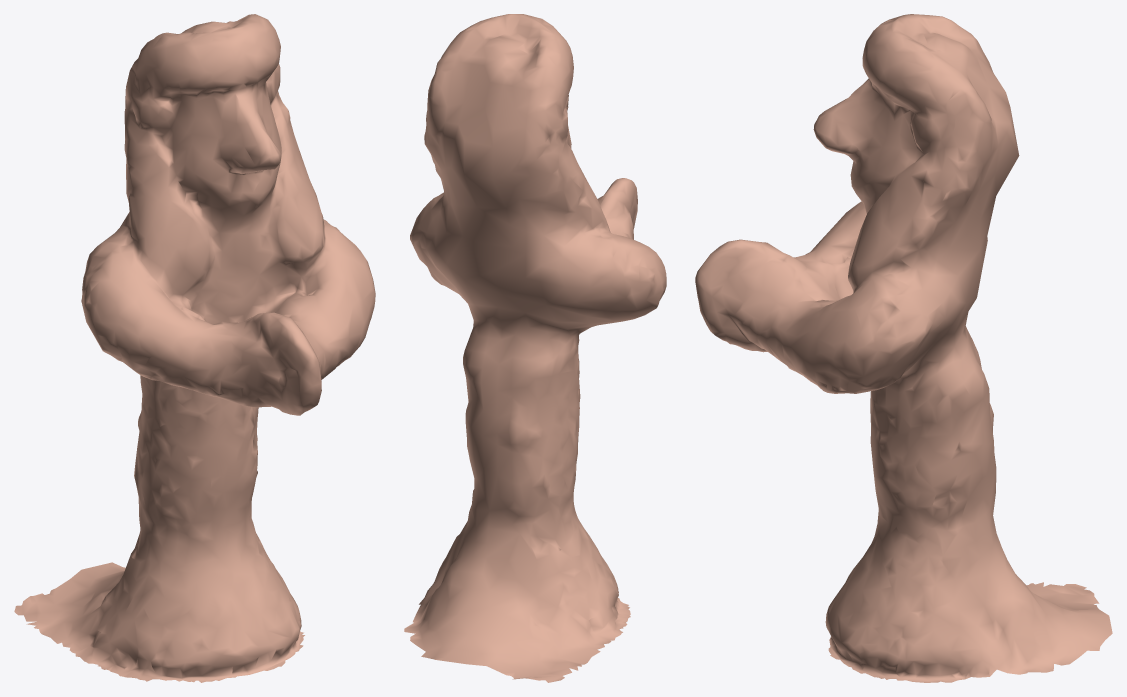
The model's file is wc-mahg-terracotta-tambourine-player.lod1.glb.
3 renders of one model, left to right at view 1: azimuth 30°, elevation 25°; view 2: azimuth 150°, elevation 25°; view 3: azimuth 270°, elevation 25°, orthographic. The views are drawn at different scales.
Parts seen in each view (by area): view 1: wc-mahg-terracotta-tambourine-player; view 2: wc-mahg-terracotta-tambourine-player; view 3: wc-mahg-terracotta-tambourine-player.
Boxes of the visible parts, x1=… form: wc-mahg-terracotta-tambourine-player: x1=14, y1=14, x2=375, y2=682; wc-mahg-terracotta-tambourine-player: x1=404, y1=14, x2=666, y2=682; wc-mahg-terracotta-tambourine-player: x1=695, y1=14, x2=1112, y2=682.
Size of the model in its own units: 0.0895 by 0.1999 by 0.1215.
